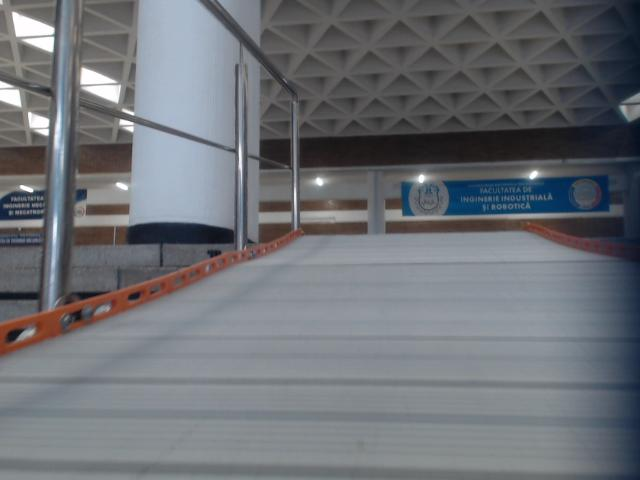rampUp: (0, 232, 639, 479)
ramps-railing: (199, 0, 299, 229), (0, 0, 81, 240), (83, 102, 227, 149), (230, 55, 247, 249), (45, 237, 70, 293), (249, 154, 290, 169)
